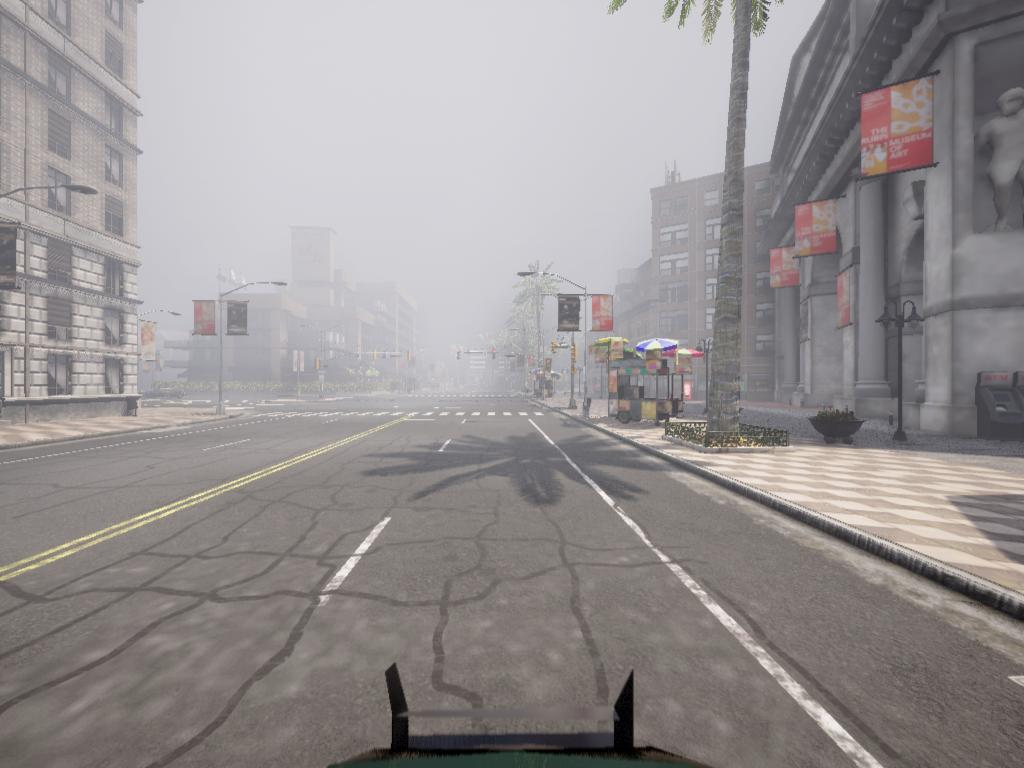traffic_light: (546, 359, 554, 374), (550, 344, 558, 356), (318, 359, 324, 373), (454, 351, 462, 361), (383, 352, 388, 361), (493, 350, 497, 361), (408, 352, 412, 363), (374, 350, 378, 361)
